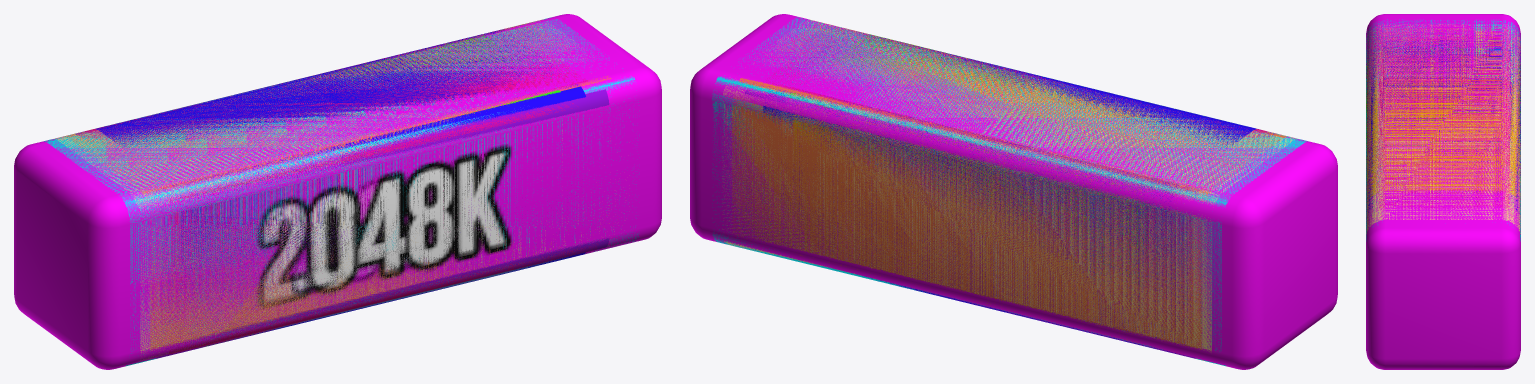
The model's file is rounded_2.fbx.
3 renders of one model, left to right at view 1: azimuth 30°, elevation 25°; view 2: azimuth 150°, elevation 25°; view 3: azimuth 270°, elevation 25°, orthographic. The views are drawn at different scales.
Visible parts, largest first — view 1: 2048k, 1024k, 32k, 64k, 256k, 512k, 128k, 16k, 8k; view 2: 2048k, 256k, 512k, 1024k, 128k, 32k, 4k, 64k, 8k, 16k; view 3: 2048k, 4k, 64k, 512k, 32k, 256k, 1024k, 128k.
Boxes of the visible parts, x1=… form: 2048k: x1=14, y1=14, x2=661, y2=369; 1024k: x1=44, y1=17, x2=639, y2=366; 32k: x1=95, y1=29, x2=585, y2=340; 64k: x1=85, y1=27, x2=598, y2=354; 256k: x1=65, y1=22, x2=611, y2=349; 512k: x1=54, y1=19, x2=617, y2=360; 128k: x1=75, y1=25, x2=609, y2=358; 16k: x1=109, y1=43, x2=568, y2=343; 8k: x1=199, y1=35, x2=560, y2=347; 2048k: x1=690, y1=14, x2=1337, y2=369; 256k: x1=732, y1=22, x2=1286, y2=360; 512k: x1=722, y1=19, x2=1296, y2=352; 1024k: x1=712, y1=17, x2=1307, y2=366; 128k: x1=742, y1=25, x2=1276, y2=358; 32k: x1=763, y1=30, x2=1258, y2=353; 4k: x1=793, y1=41, x2=1203, y2=341; 64k: x1=763, y1=27, x2=1266, y2=354; 8k: x1=789, y1=34, x2=1150, y2=269; 16k: x1=777, y1=34, x2=1247, y2=349; 2048k: x1=1366, y1=14, x2=1520, y2=369; 4k: x1=1366, y1=52, x2=1520, y2=201; 64k: x1=1366, y1=36, x2=1520, y2=208; 512k: x1=1366, y1=24, x2=1520, y2=233; 32k: x1=1366, y1=40, x2=1520, y2=218; 256k: x1=1366, y1=28, x2=1520, y2=219; 1024k: x1=1366, y1=19, x2=1520, y2=241; 128k: x1=1367, y1=32, x2=1520, y2=204.
Size of the model in its own units: 140 by 40 by 40.
Materials: 1 (1 with a texture image).
